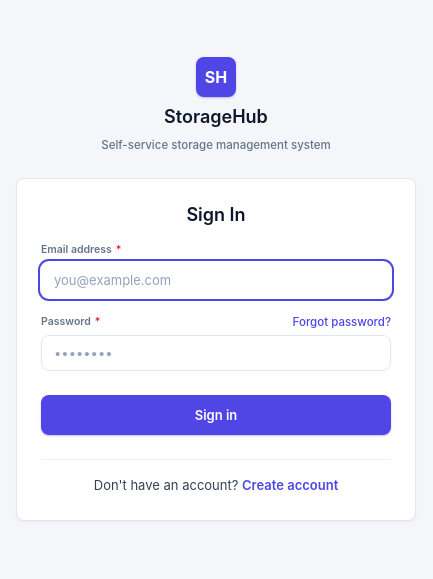
Authentication & Auth Screens › displays single generic inline error on 401 without revealing field details
Type "lan@storagehub.dev" into the field labelled "Email address *" at (216, 280), box x1=41 y1=262 x2=391 y2=298
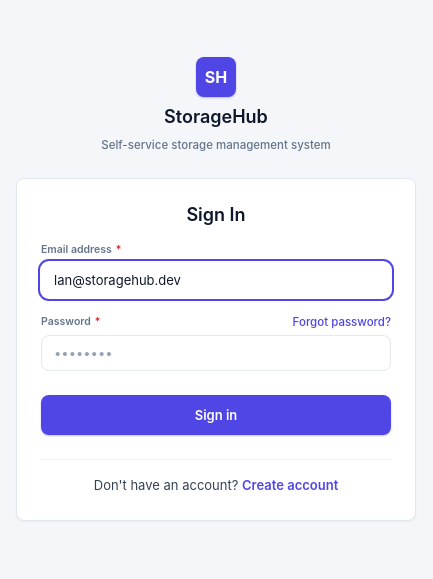
Type "WrongPassword!" into the password field labelled "Password *" at (216, 353), box x1=41 y1=335 x2=391 y2=371
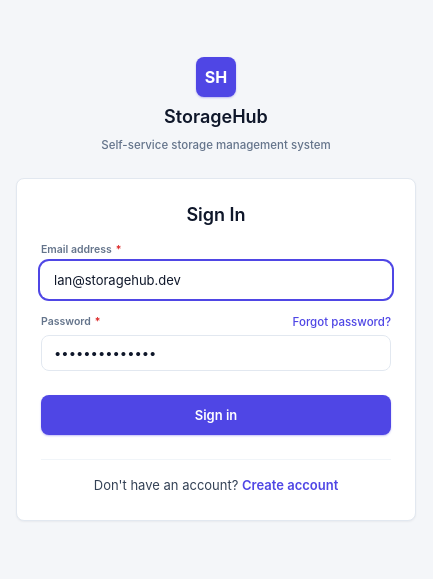
Click the button "Sign in" at (216, 415), box x1=41 y1=395 x2=391 y2=435
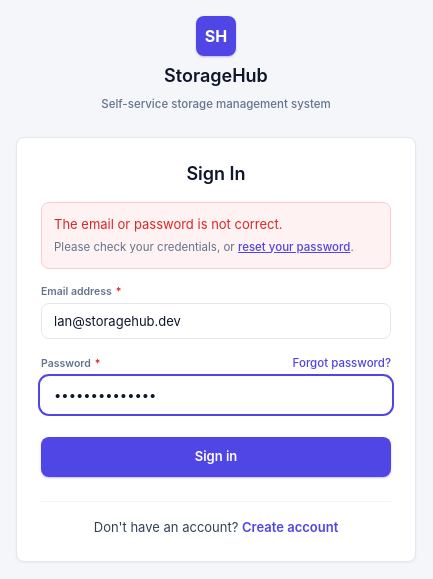
Now the message shows "The email or password is not correct.", box x1=54 y1=216 x2=282 y2=232
Now the message shows "reset your password", box x1=238 y1=238 x2=350 y2=256
